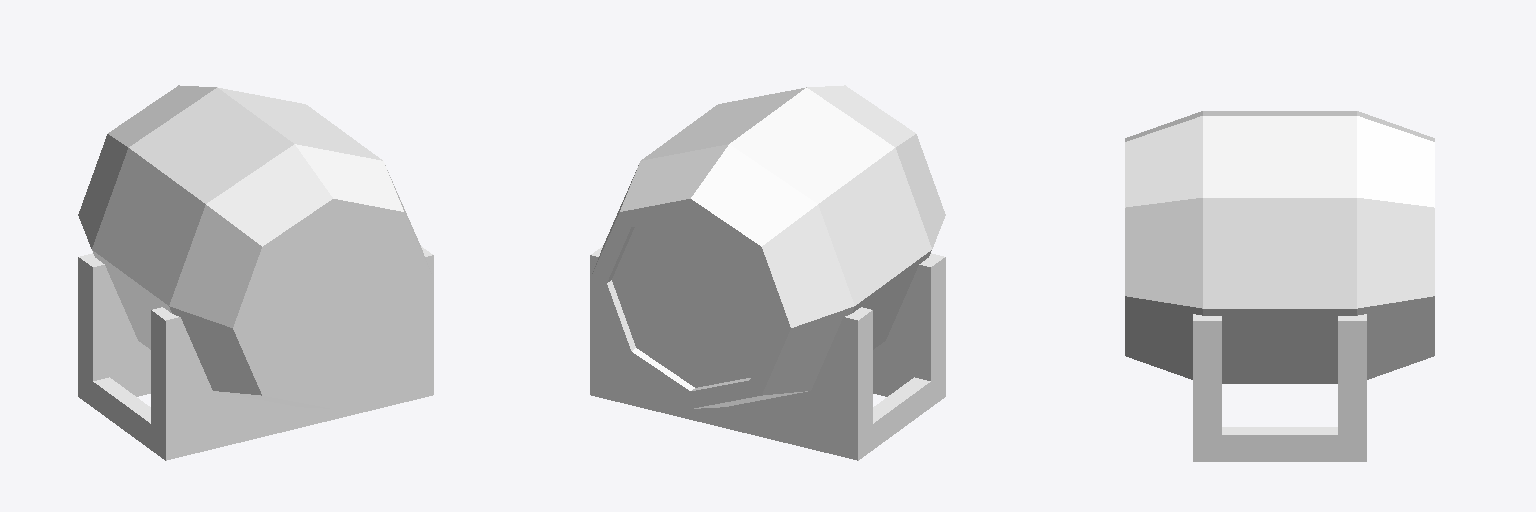
The model's file is small_barrel_side.obj.
3 renders of one model, left to right at view 1: azimuth 30°, elevation 25°; view 2: azimuth 150°, elevation 25°; view 3: azimuth 270°, elevation 25°, orthographic.
Parts seen in each view (by area): view 1: cylinder, stand2, stand1, cube; view 2: cylinder, stand1, stand2, cube; view 3: cylinder, stand1, stand2, cube.000.
Boxes of the visible parts, <box> form: cylinder: <box>78,85,433,408</box>; stand2: <box>151,246,433,460</box>; stand1: <box>78,253,150,406</box>; cube: <box>93,377,150,449</box>; cylinder: <box>590,85,945,408</box>; stand1: <box>590,246,872,460</box>; stand2: <box>873,253,945,406</box>; cube: <box>873,377,930,449</box>; cylinder: <box>1125,111,1434,383</box>; stand1: <box>1338,314,1366,461</box>; stand2: <box>1193,314,1221,461</box>; cube.000: <box>1222,427,1337,461</box>.
Size of the model in its own units: 1 by 1 by 1.